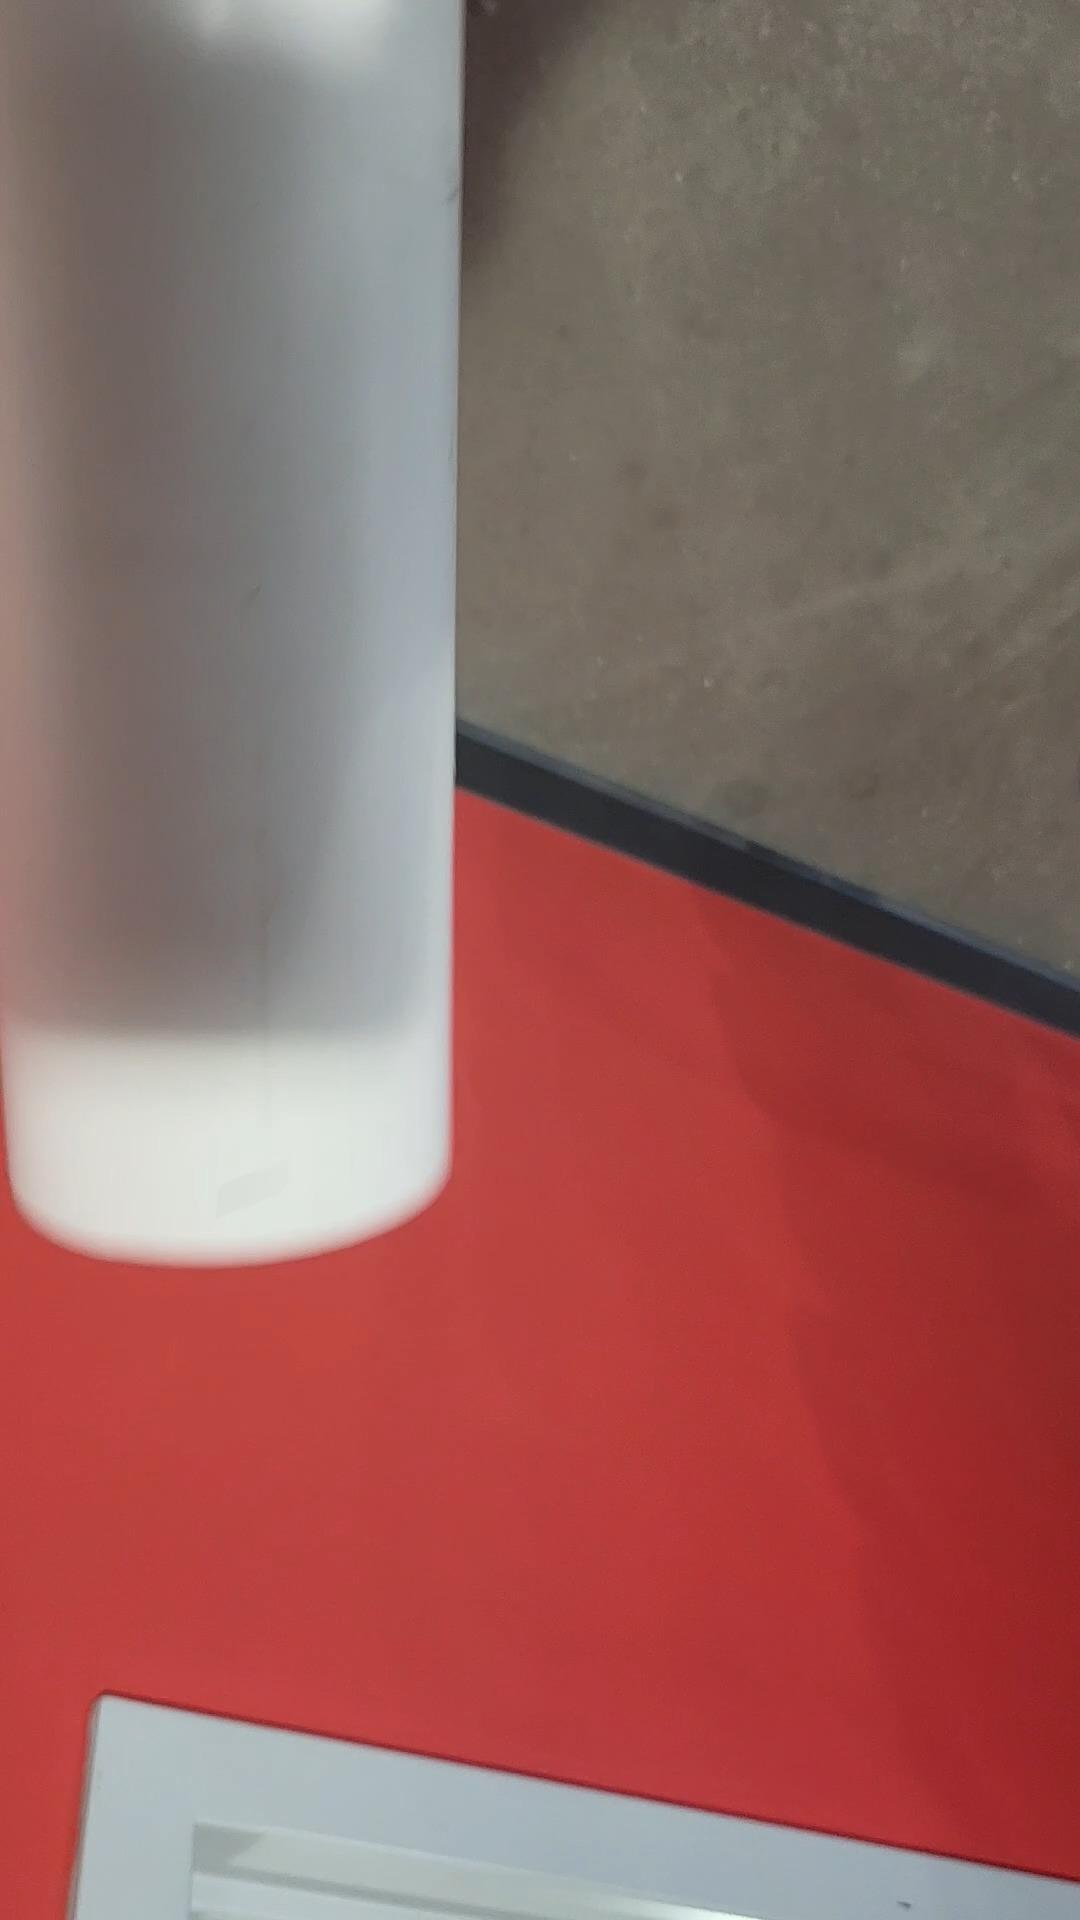coral: (0, 0, 469, 1274)
